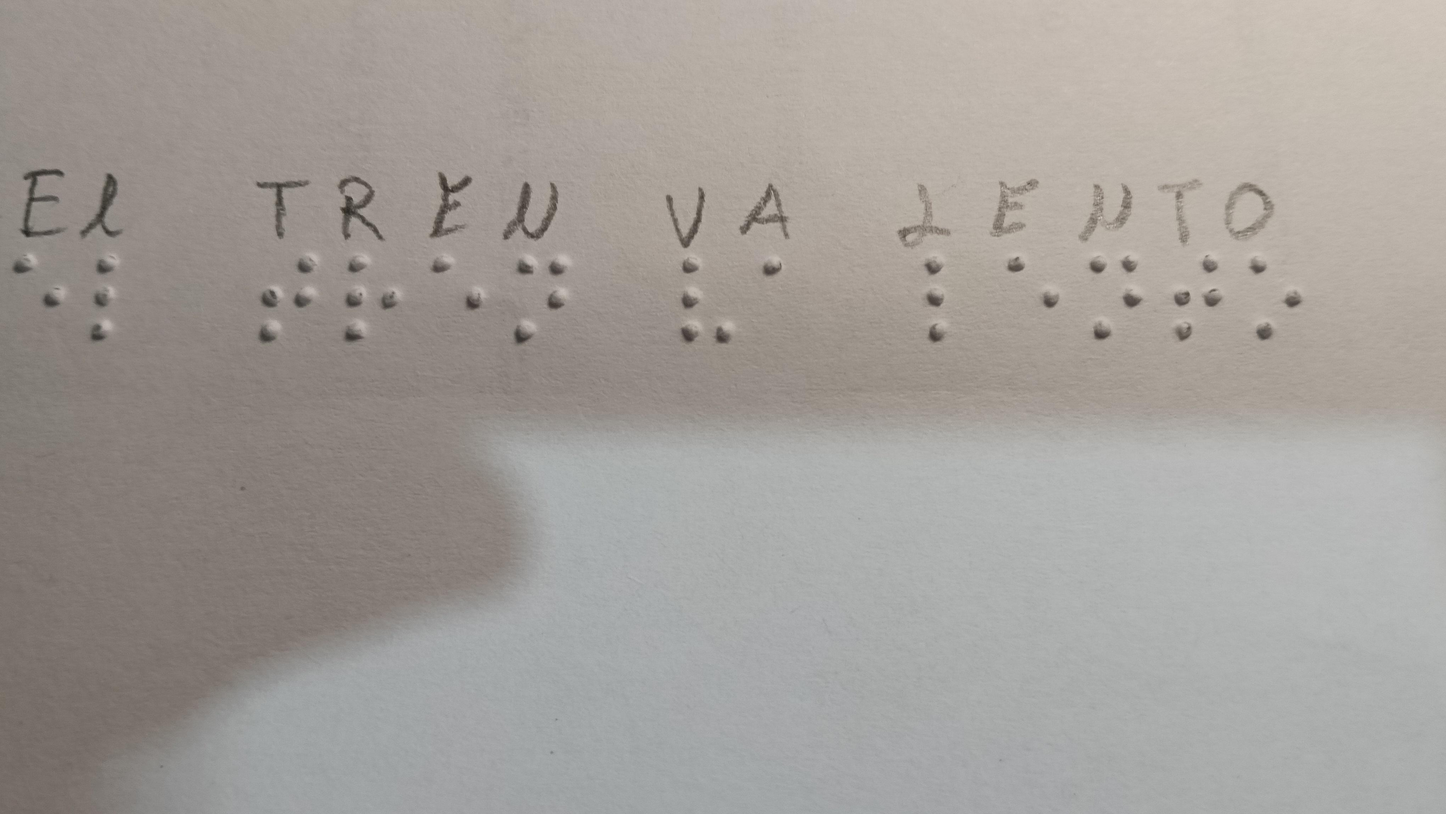a: (741, 248, 801, 289)
e: (427, 246, 489, 342), (1003, 248, 1069, 326), (14, 246, 69, 328)
l: (909, 248, 964, 349), (87, 236, 126, 344)
n: (493, 252, 581, 347), (1086, 246, 1147, 346)
o: (1237, 250, 1308, 342)
r: (338, 250, 411, 344)
t: (252, 245, 330, 342), (1162, 250, 1230, 346)
v: (666, 253, 744, 347)
